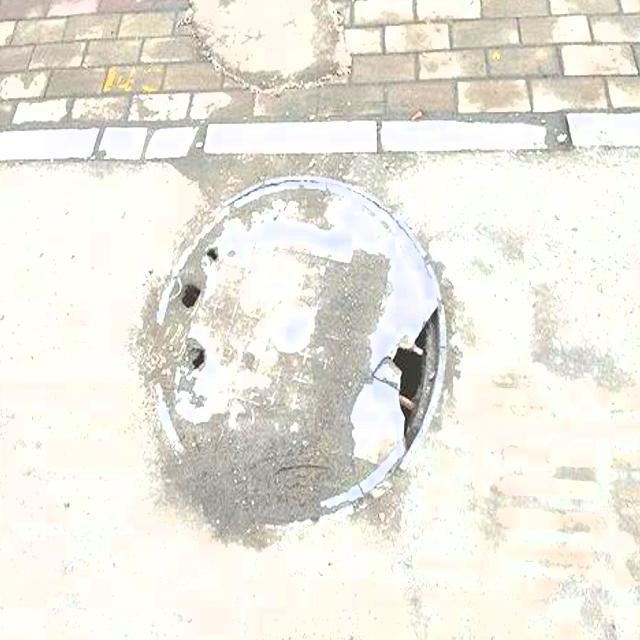broke: (127, 165, 464, 542)
